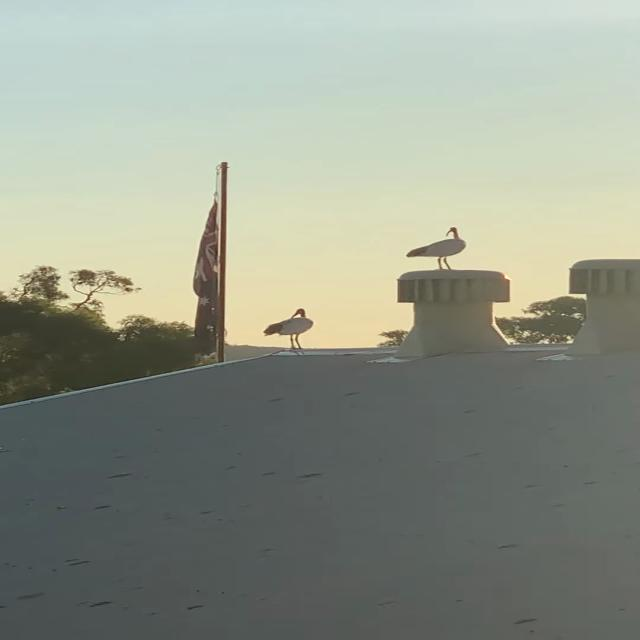Birds-Ibis: (402, 225, 469, 272), (260, 306, 317, 354)
